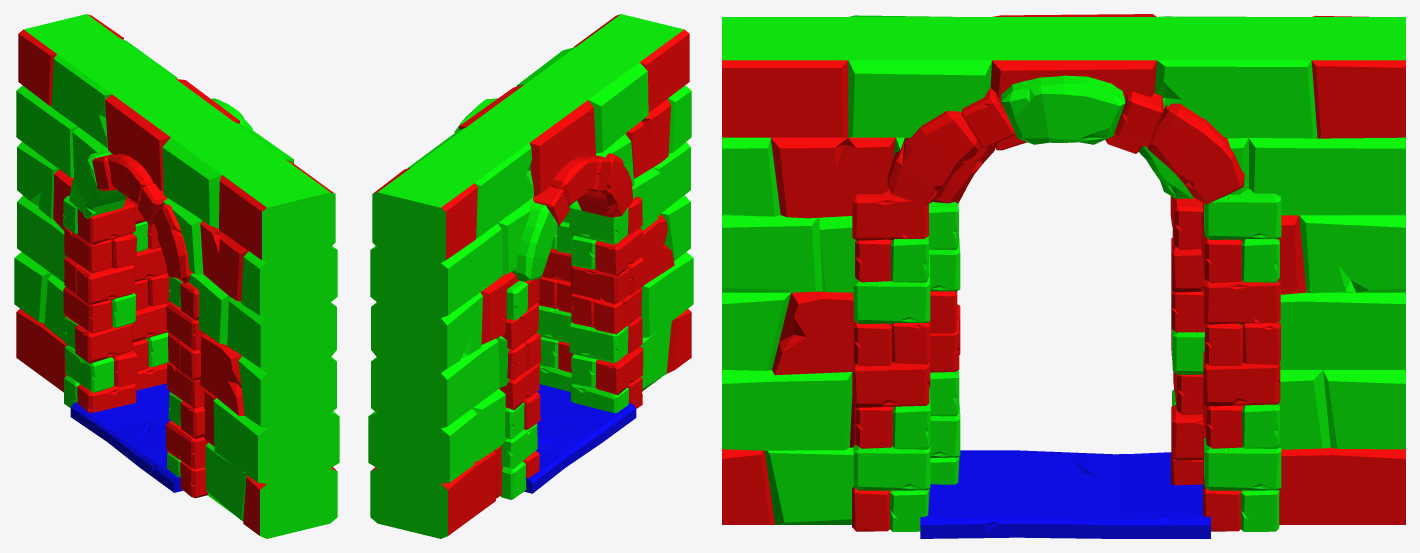
Rendered from SM_Wall_Door_1.fbx.
3 renders of one model, left to right at view 1: azimuth 30°, elevation 25°; view 2: azimuth 150°, elevation 25°; view 3: azimuth 270°, elevation 25°, orthographic. The views are drawn at different scales.
Visible parts, largest first — view 1: Mesh; view 2: Mesh; view 3: Mesh.
Boxes of the visible parts, left/top/right/bottom form: Mesh: left=14, top=14, right=339, bottom=538; Mesh: left=368, top=14, right=693, bottom=538; Mesh: left=722, top=14, right=1405, bottom=538.
Bounding box in the file's own units: 105 × 300 × 400.
